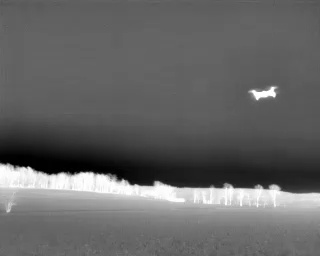DRONE: (245, 82, 282, 106)
